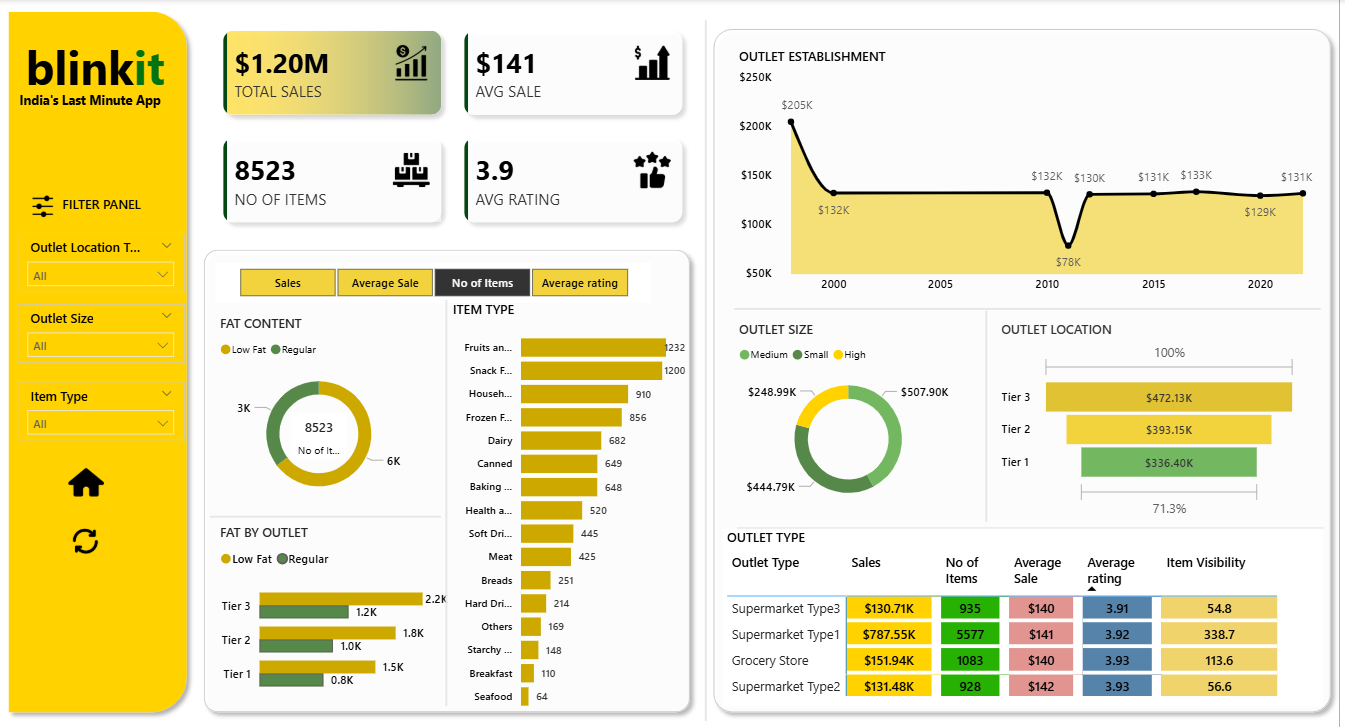

The dashboard page shown, as its layout file describes it:
{"tool":"powerbi","page":{"name":"Page 1","canvas":[1400,800],"ordinal":0},"visuals":[{"type":"shape","box":[0,4.3,204.3,750.7],"z":0},{"type":"textbox","box":[268.8,331,205,82.3],"z":1000},{"type":"textbox","box":[13,33.3,173.9,73.9],"z":2000},{"type":"textbox","box":[15.9,91.3,171,31.9],"z":3000},{"type":"cardVisual","fields":{"Data":["BlinkIT Grocery Data.Sales","BlinkIT Grocery Data.Average Sale","BlinkIT Grocery Data.No of Items","BlinkIT Grocery Data.Average rating"]},"box":[204.4,4.4,539.7,258.8],"z":4000},{"type":"shape","box":[204.3,253.6,526.1,501.4],"z":5000},{"type":"donutChart","title":"FAT CONTENT","fields":{"Y":["BlinkIT Grocery Data.No of Items"],"Category":["BlinkIT Grocery Data.Item Fat Content"]},"box":[224.6,330.4,215.9,205.8],"z":6000},{"type":"slicer","fields":{"Values":["Metrics.Metrics"]},"box":[224.6,275.4,455.1,42],"z":7000},{"type":"card","fields":{"Values":["BlinkIT Grocery Data.No of Items"]},"box":[304.3,433.3,56.5,47.8],"z":8000},{"type":"clusteredBarChart","title":"FAT BY OUTLET ","fields":{"Y":["BlinkIT Grocery Data.No of Items"],"Category":["BlinkIT Grocery Data.Outlet Location Type"],"Series":["BlinkIT Grocery Data.Item Fat Content"]},"box":[224.6,547.8,247.8,191.3],"z":9000},{"type":"shape","box":[218.9,535.8,241.5,11.3],"z":10000},{"type":"shape","box":[460.4,315.1,13.2,424.5],"z":11000},{"type":"barChart","title":"ITEM TYPE","fields":{"Y":["BlinkIT Grocery Data.No of Items"],"Category":["BlinkIT Grocery Data.Item Type"]},"box":[468.1,315.3,252.8,438.9],"z":12000},{"type":"shape","box":[736.8,22.1,663.2,732.4],"z":13000},{"type":"lineChart","title":" OUTLET ESTABLISHMENT","fields":{"Y":["BlinkIT Grocery Data.Sales"],"Category":["BlinkIT Grocery Data.Outlet Establishment Year"]},"box":[767.9,50.9,613.2,266],"z":14000},{"type":"shape","box":[730.9,22.1,13.2,732.4],"z":15000},{"type":"shape","box":[769.8,547.2,613.2,13.2],"z":16000},{"type":"donutChart","title":"OUTLET SIZE","fields":{"Y":["BlinkIT Grocery Data.Sales"],"Category":["BlinkIT Grocery Data.Outlet Size"]},"box":[767.9,335.8,237.7,205.7],"z":17000},{"type":"funnel","title":"OUTLET LOCATION","fields":{"Y":["BlinkIT Grocery Data.Sales"],"Category":["BlinkIT Grocery Data.Outlet Location Type"]},"box":[1041.5,335.8,318.9,211.3],"z":18000},{"type":"shape","box":[1020.8,326.4,20.8,220.8],"z":19000},{"type":"shape","box":[767.9,317,613.2,13.2],"z":20000},{"type":"pivotTable","title":"OUTLET TYPE","fields":{"Values":["BlinkIT Grocery Data.Sales","BlinkIT Grocery Data.No of Items","BlinkIT Grocery Data.Average Sale","BlinkIT Grocery Data.Average rating","Sum(BlinkIT Grocery Data.Item Visibility)"],"Rows":["BlinkIT Grocery Data.Outlet Type"]},"box":[755.6,554.2,627.8,186.1],"z":21000},{"type":"slicer","fields":{"Values":["BlinkIT Grocery Data.Outlet Location Type"]},"box":[18.2,244.7,174.8,61.5],"z":22000},{"type":"slicer","fields":{"Values":["BlinkIT Grocery Data.Outlet Size"]},"box":[18.2,318.8,174.8,61.5],"z":23000},{"type":"slicer","fields":{"Values":["BlinkIT Grocery Data.Item Type"]},"box":[18.2,399.9,174.8,61.5],"z":24000},{"type":"textbox","box":[4.2,199.9,193,32.2],"z":25000},{"type":"image","box":[60.1,486.6,60.1,37.8],"z":26000},{"type":"image","box":[18.2,205.5,53.1,22.4],"z":27000},{"type":"image","box":[60.1,548.1,60.1,37.8],"z":28000}]}

Visuals, with their boxes on the page's 1400x800 design canvas (x1, y1, x2, y2). These are canvas units, not pixel positions in the 1345x727 screenshot, which may show the page scaled, cropped or inside an application window:
shape: crop(0, 4, 204, 755)
textbox: crop(269, 331, 474, 413)
textbox: crop(13, 33, 187, 107)
textbox: crop(16, 91, 187, 123)
cardVisual - BlinkIT Grocery Data.Sales x BlinkIT Grocery Data.Average Sale: crop(204, 4, 744, 263)
shape: crop(204, 254, 730, 755)
"FAT CONTENT" donutChart: crop(225, 330, 440, 536)
slicer - Metrics.Metrics: crop(225, 275, 680, 317)
card - BlinkIT Grocery Data.No of Items: crop(304, 433, 361, 481)
"FAT BY OUTLET " clusteredBarChart: crop(225, 548, 472, 739)
shape: crop(219, 536, 460, 547)
shape: crop(460, 315, 474, 740)
"ITEM TYPE" barChart: crop(468, 315, 721, 754)
shape: crop(737, 22, 1400, 754)
" OUTLET ESTABLISHMENT" lineChart: crop(768, 51, 1381, 317)
shape: crop(731, 22, 744, 754)
shape: crop(770, 547, 1383, 560)
"OUTLET SIZE" donutChart: crop(768, 336, 1006, 542)
"OUTLET LOCATION" funnel: crop(1042, 336, 1360, 547)
shape: crop(1021, 326, 1042, 547)
shape: crop(768, 317, 1381, 330)
"OUTLET TYPE" pivotTable: crop(756, 554, 1383, 740)
slicer - BlinkIT Grocery Data.Outlet Location Type: crop(18, 245, 193, 306)
slicer - BlinkIT Grocery Data.Outlet Size: crop(18, 319, 193, 380)
slicer - BlinkIT Grocery Data.Item Type: crop(18, 400, 193, 461)
textbox: crop(4, 200, 197, 232)
image: crop(60, 487, 120, 524)
image: crop(18, 206, 71, 228)
image: crop(60, 548, 120, 586)
